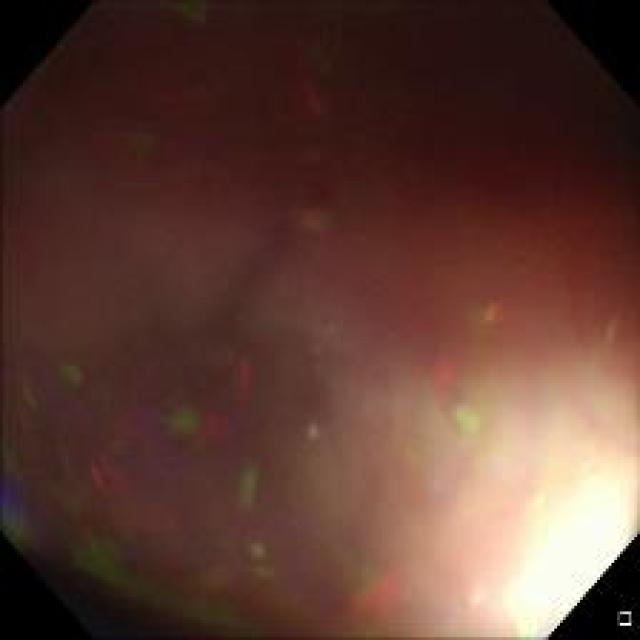color misalignment: (14, 16, 630, 620), (184, 548, 290, 594), (80, 448, 140, 528), (171, 392, 248, 454), (222, 334, 275, 402), (229, 440, 264, 518), (345, 569, 406, 609), (46, 354, 92, 400), (430, 348, 460, 399), (448, 401, 485, 440), (480, 290, 501, 334)
saturation: (504, 499, 628, 628)
